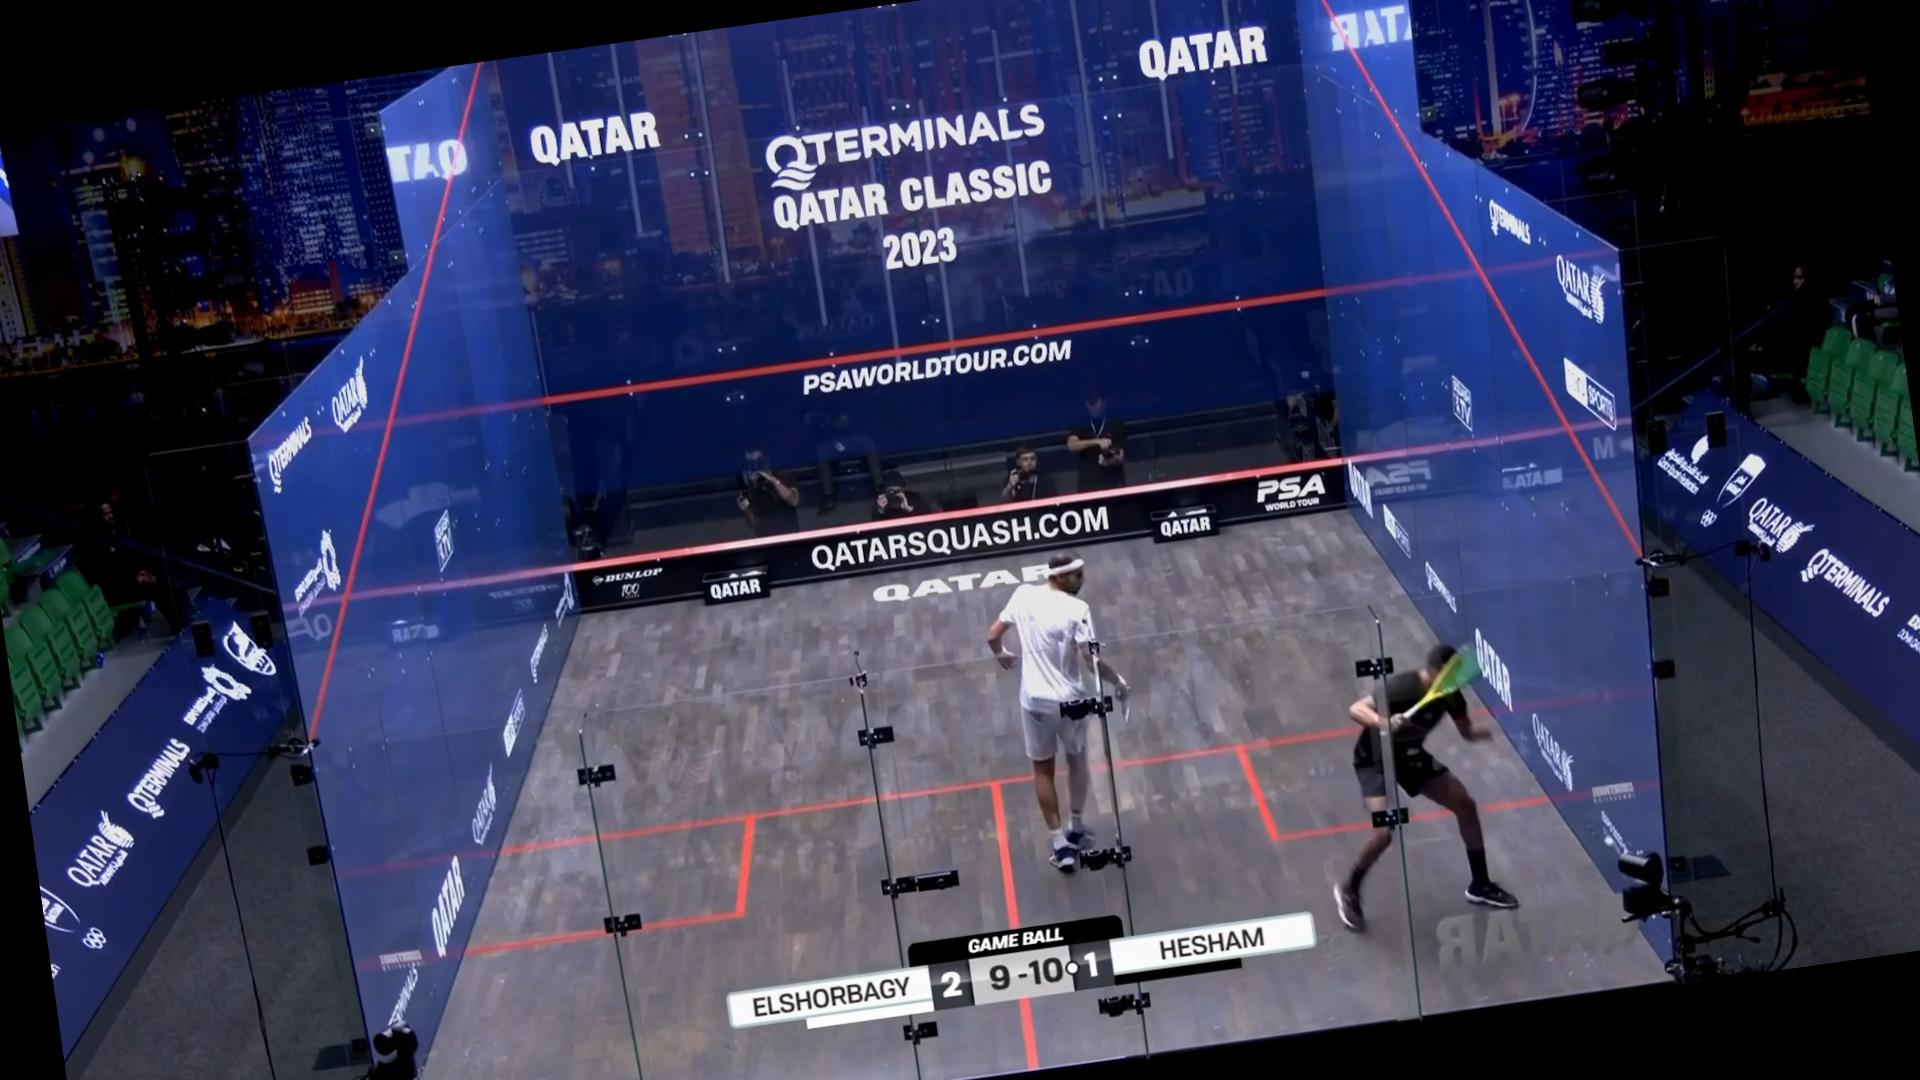Squash-Ball: (1600, 824, 1623, 853)
